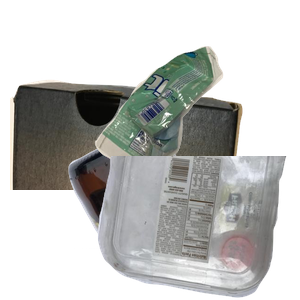cardboard: (10, 77, 245, 257)
glass: (66, 120, 300, 300)
plastic: (95, 156, 300, 300)
trash: (92, 44, 300, 211)
